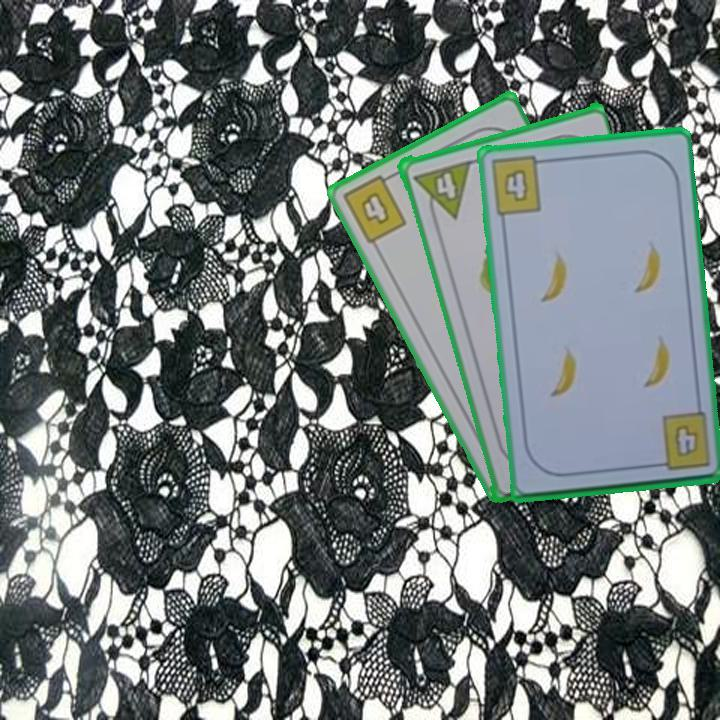4b: (338, 169, 410, 247), (486, 153, 551, 218), (648, 409, 713, 474)
4p: (428, 161, 473, 219)
